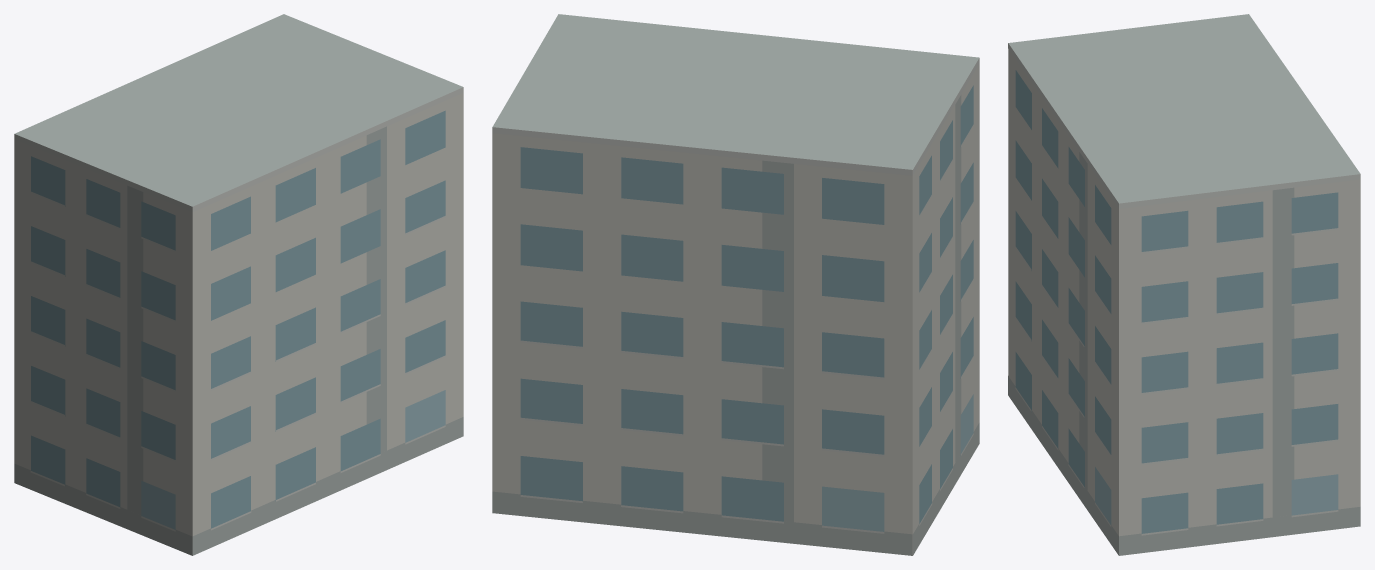
Rendered from survey-upis-32766828.glb.
3 views of the same model, side by side, from view 1: azimuth 30°, elevation 25°; view 2: azimuth 150°, elevation 25°; view 3: azimuth 270°, elevation 25° (orthographic). The views are drawn at different scales.
Parts seen in each view (by area): view 1: survey-upis-32766828.tmp; view 2: survey-upis-32766828.tmp; view 3: survey-upis-32766828.tmp.
Part boxes in pixels (bbox=[...]): survey-upis-32766828.tmp: bbox=[14, 14, 463, 555]; survey-upis-32766828.tmp: bbox=[492, 14, 979, 555]; survey-upis-32766828.tmp: bbox=[1008, 14, 1360, 555].
Size of the model in its own units: 18.07 by 15.65 by 14.2.
